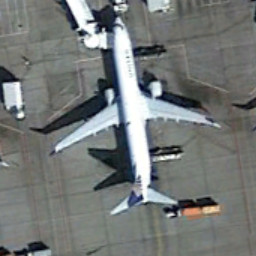Airplane: (41, 10, 224, 217)
